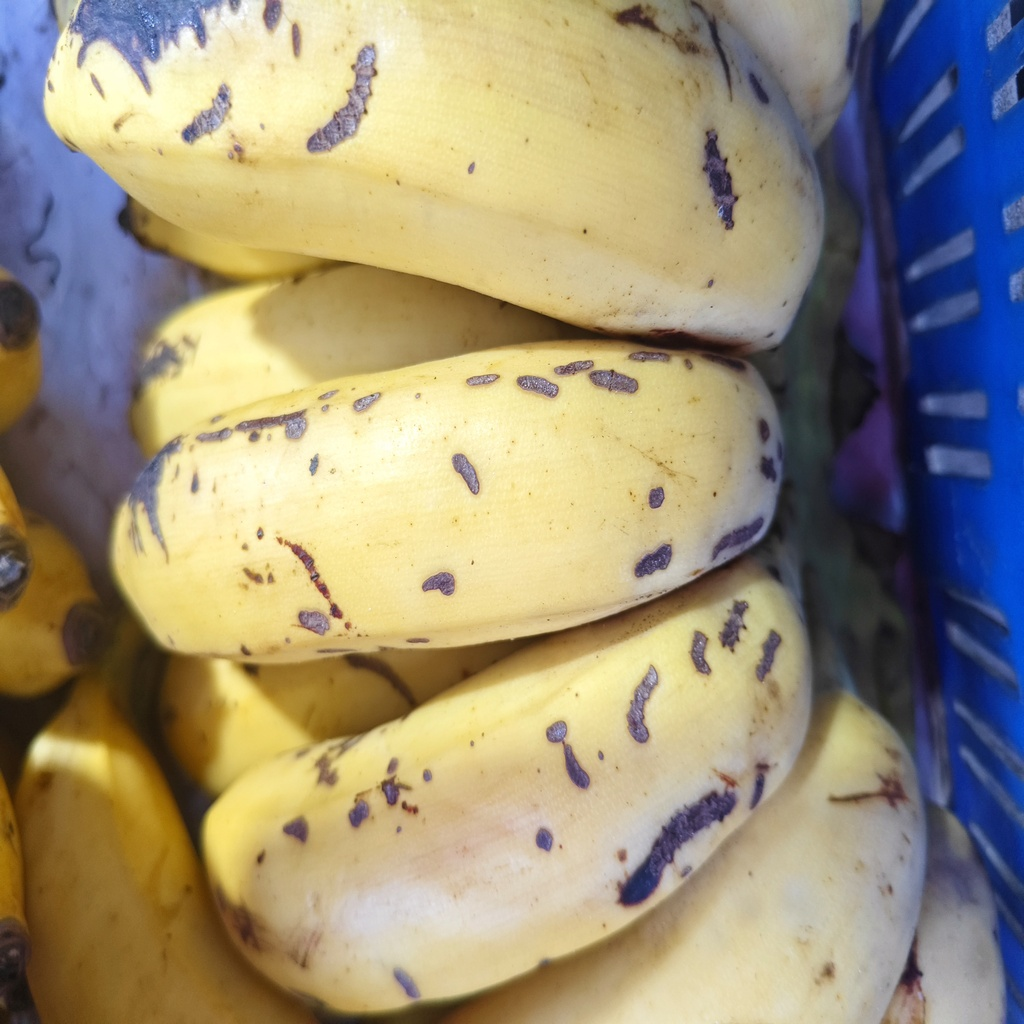unhealthy: (208, 555, 814, 1011), (43, 1, 822, 323), (103, 339, 778, 664)
